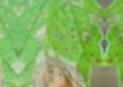Tomato leaf late blight: (17, 0, 106, 87)
